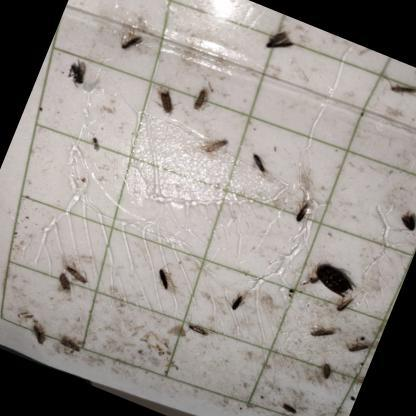prays_oleae: (52, 46, 100, 102), (257, 15, 304, 64), (143, 252, 187, 303), (142, 72, 186, 121), (194, 121, 238, 170), (51, 324, 92, 372), (102, 25, 148, 66), (378, 68, 416, 117), (283, 185, 320, 235), (57, 251, 100, 292), (238, 141, 278, 185), (338, 324, 375, 367), (43, 264, 82, 304), (300, 314, 341, 352), (223, 280, 252, 324), (184, 81, 214, 123), (180, 308, 216, 342), (330, 286, 362, 318), (390, 200, 416, 239), (312, 354, 340, 387), (372, 300, 394, 341), (271, 391, 303, 416), (352, 366, 368, 400)
